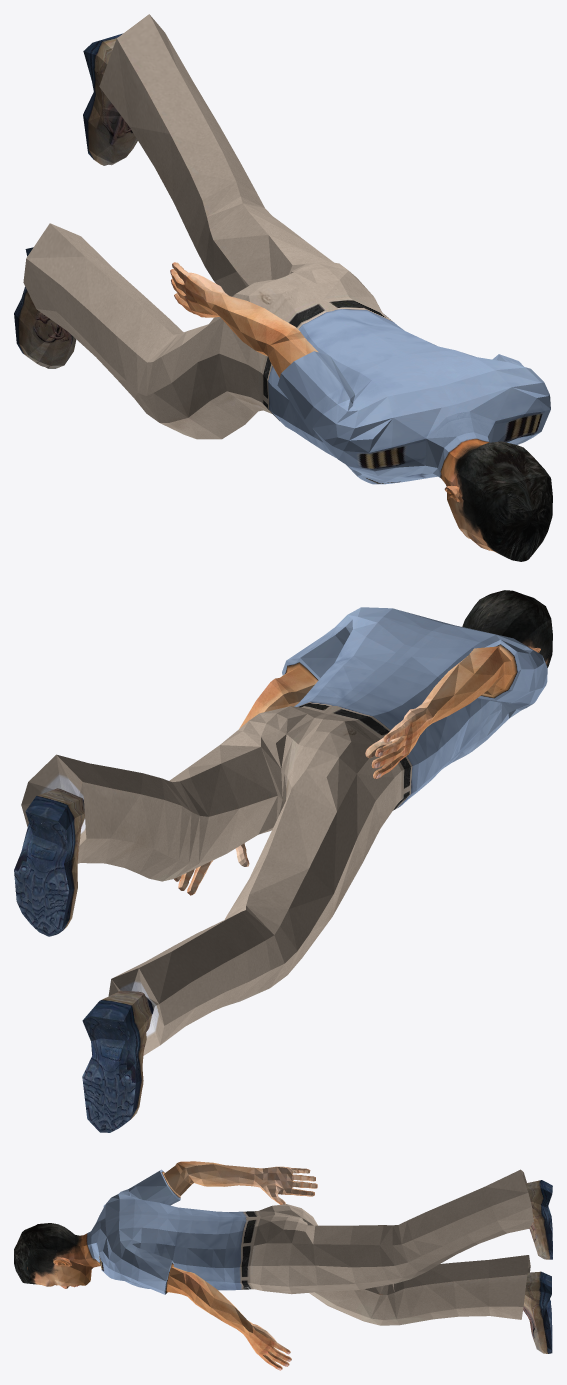
File: WalkingMan4.dae
The picture shows the model from 3 angles, top to bottom: view 1: azimuth 30°, elevation 25°; view 2: azimuth 150°, elevation 25°; view 3: azimuth 270°, elevation 25°; orthographic projection. The views are drawn at different scales.
Parts seen in each view (by area): view 1: node; view 2: node; view 3: node.
Boxes of the visible parts, left/top/right/bottom form: node: left=14, top=14, right=552, bottom=561; node: left=14, top=590, right=552, bottom=1132; node: left=14, top=1161, right=552, bottom=1370.
Bounding box in the file's own units: 22.02 × 28.85 × 69.04.
